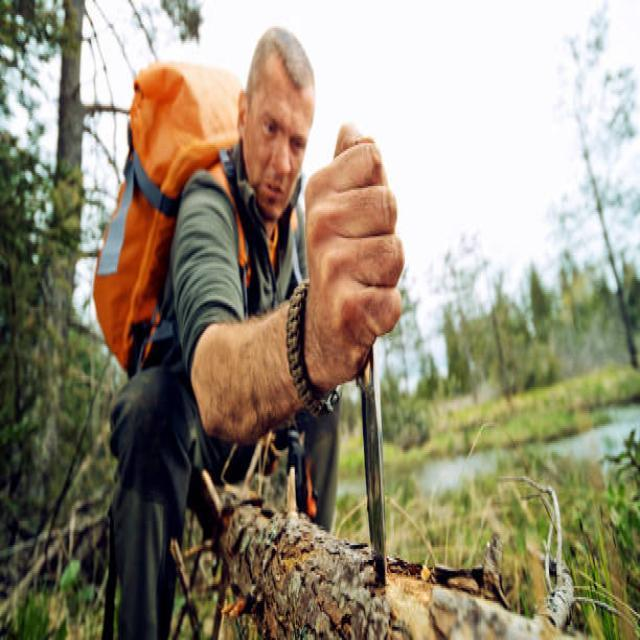faca: (310, 112, 406, 618)
